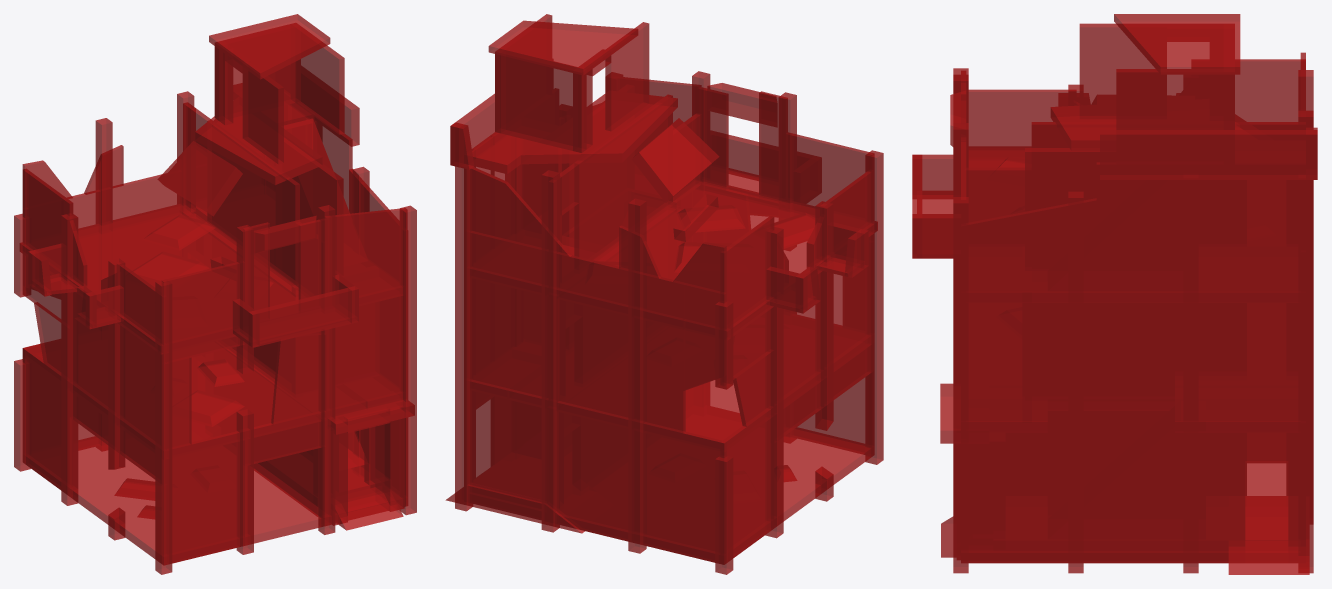
The model's file is SM_Bld_Shop_05_Destroyed_Collision.fbx.
3 views of the same model, side by side, from view 1: azimuth 30°, elevation 25°; view 2: azimuth 150°, elevation 25°; view 3: azimuth 270°, elevation 25° (orthographic). The views are drawn at different scales.
Parts seen in each view (by area): view 1: SM_Bld_Shop_05_Destroyed_Collision; view 2: SM_Bld_Shop_05_Destroyed_Collision; view 3: SM_Bld_Shop_05_Destroyed_Collision.
Part boxes in pixels (x1,y1,x2,y2): SM_Bld_Shop_05_Destroyed_Collision: (14, 14, 416, 574); SM_Bld_Shop_05_Destroyed_Collision: (445, 14, 883, 574); SM_Bld_Shop_05_Destroyed_Collision: (912, 14, 1317, 574).
Size of the model in its own units: 1086 by 1454 by 1056.
